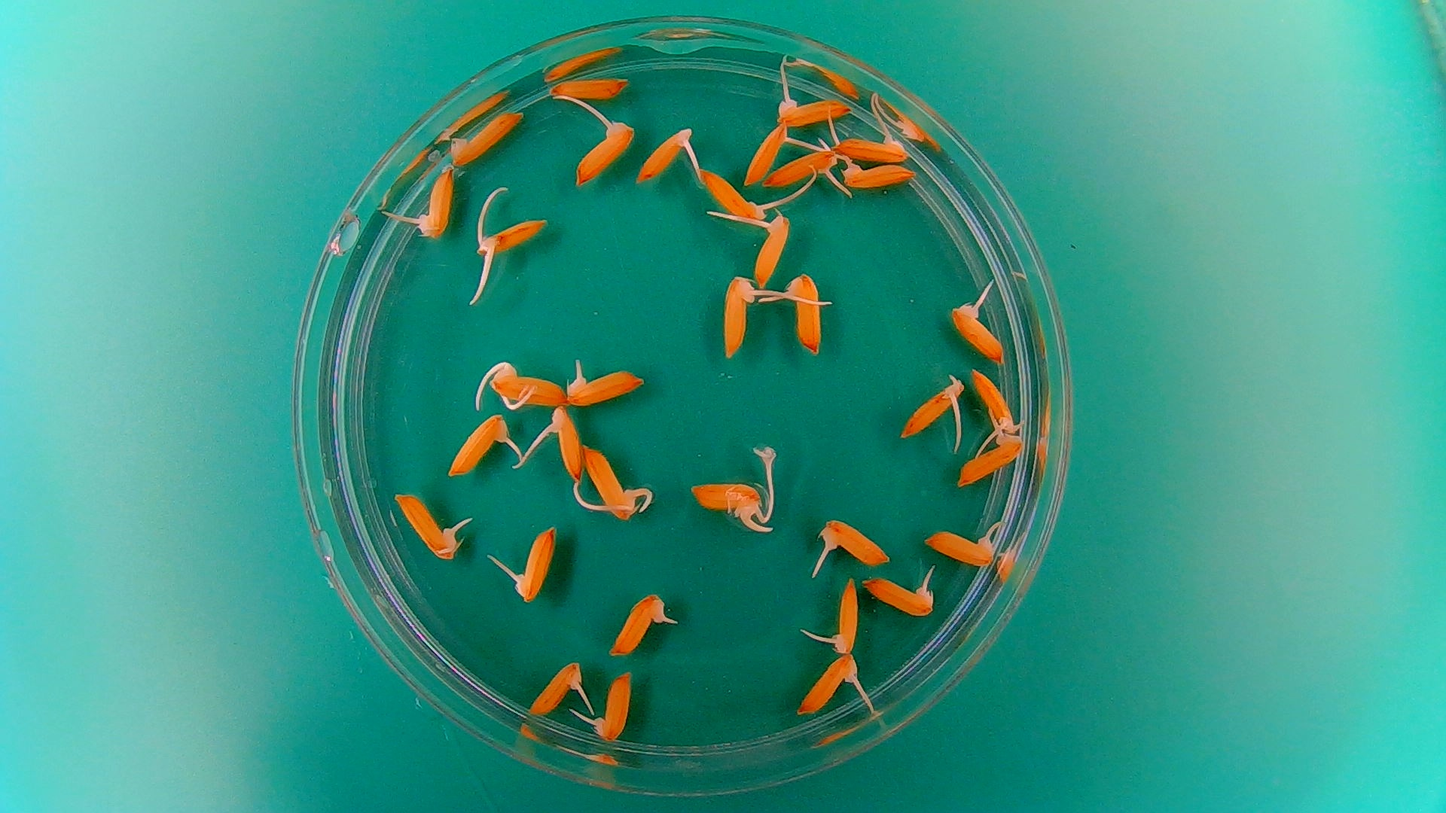no: (445, 107, 523, 167), (548, 72, 632, 101)
yes: (395, 489, 463, 561), (898, 371, 966, 437), (581, 449, 641, 522), (444, 413, 510, 478), (794, 651, 861, 715), (606, 593, 667, 659), (572, 118, 631, 186), (697, 168, 767, 225), (487, 361, 569, 409), (635, 124, 698, 186), (969, 368, 1023, 440), (763, 140, 839, 190), (721, 273, 763, 363), (819, 518, 892, 568), (587, 667, 634, 744), (526, 657, 584, 717), (947, 303, 1004, 364), (783, 273, 825, 355), (864, 574, 938, 620), (688, 481, 765, 524), (961, 434, 1020, 489), (514, 528, 556, 605), (563, 363, 638, 406), (472, 216, 549, 257), (749, 209, 792, 282), (742, 123, 791, 187), (416, 162, 456, 239), (928, 528, 1002, 568), (769, 90, 846, 127), (826, 577, 862, 655), (550, 403, 585, 483), (832, 131, 907, 163), (840, 159, 916, 190)
